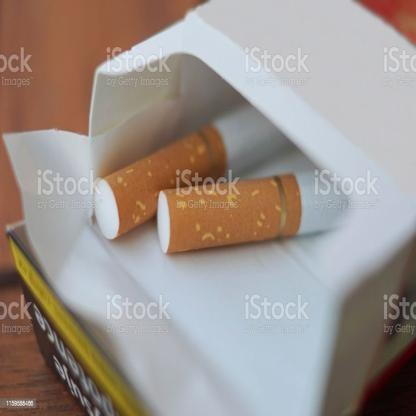trash: (88, 109, 330, 248), (154, 169, 364, 248)
